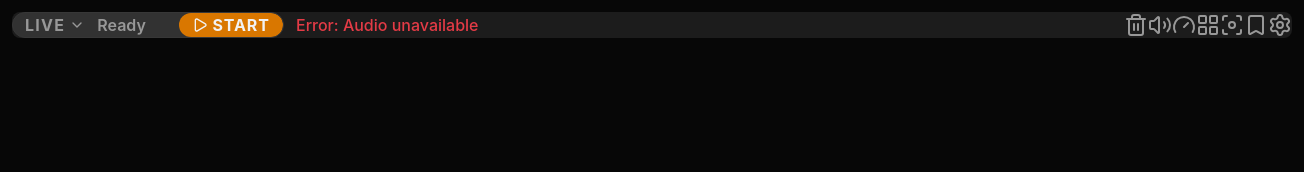
AppHeader › renders an error transport notice with tooltip text
Hover over the text "Error: Audio unavailable": (387, 25) [296,13,478,37]
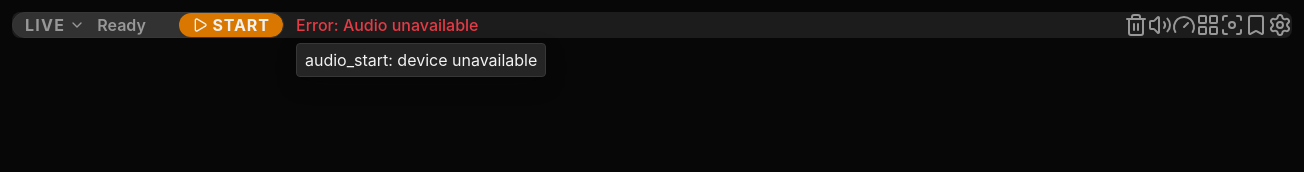
Now the tooltip reads "audio_start: device unavailable", box [305,50,537,70]
